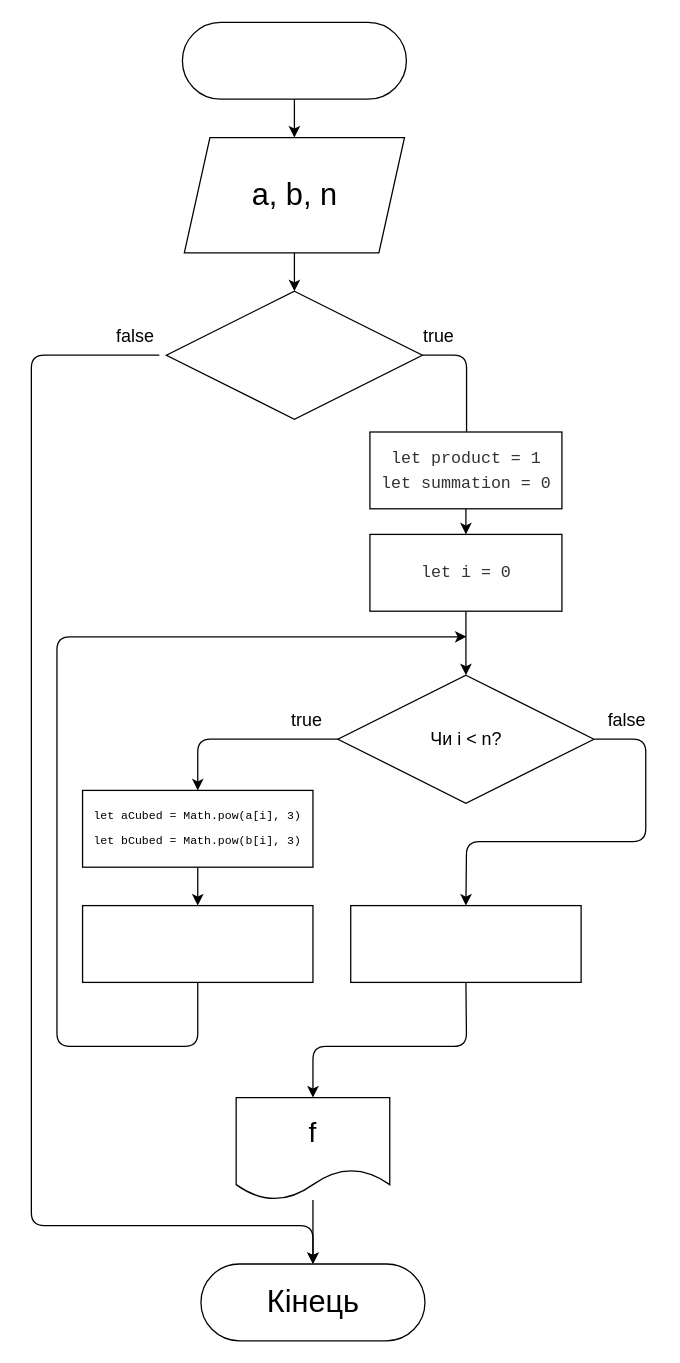
The diagram is 680 pixels wide and 1363 high, and some of its shapes have lost their labels. Here are the shapes that lost their labels. From the top down, the box of each, then its label:
(181, 21, 406, 99): Початок
(165, 290, 422, 419): n > 0? Довжина a або b = n?
(81, 904, 313, 982): product *= aCubed - bCubed summation += aCubed + bCubed
(349, 904, 581, 982): return product + summation
